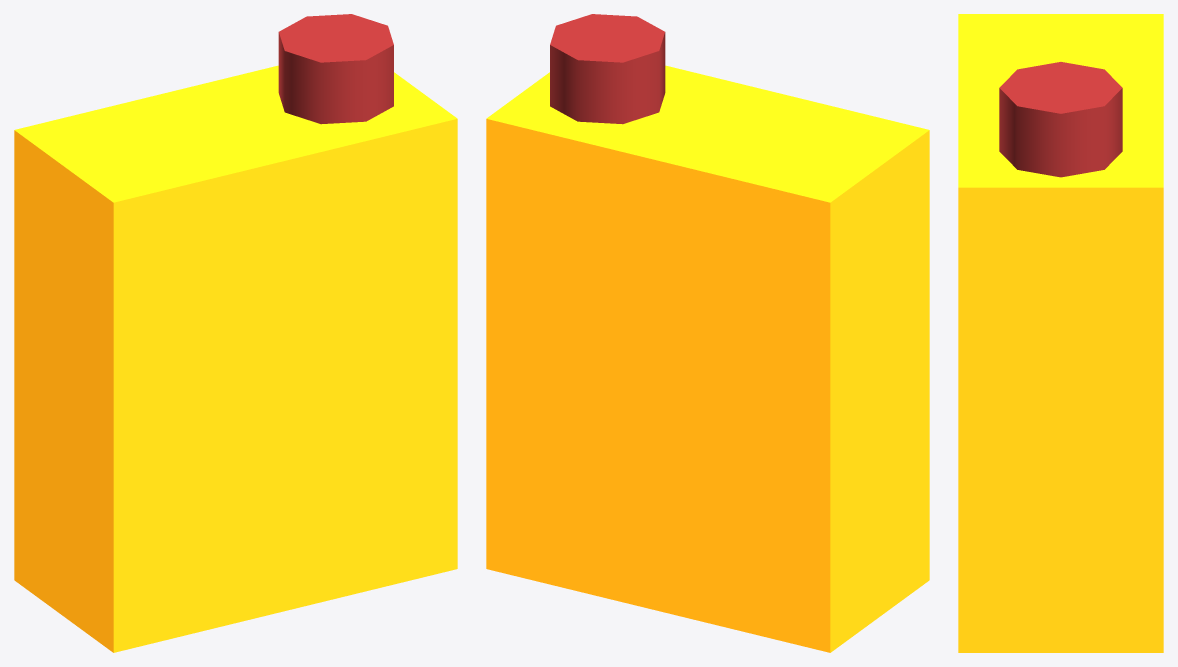
File: pickup_fuel.glb
3 renders of one model, left to right at view 1: azimuth 30°, elevation 25°; view 2: azimuth 150°, elevation 25°; view 3: azimuth 270°, elevation 25°, orthographic. The views are drawn at different scales.
Visible parts, largest first — view 1: PickupFuel; view 2: PickupFuel; view 3: PickupFuel.
Boxes of the visible parts, x1=… form: PickupFuel: x1=14, y1=14, x2=457, y2=652; PickupFuel: x1=486, y1=14, x2=929, y2=652; PickupFuel: x1=958, y1=14, x2=1163, y2=652.
Bounding box in the file's own units: 1.2 × 1.71 × 0.6.
